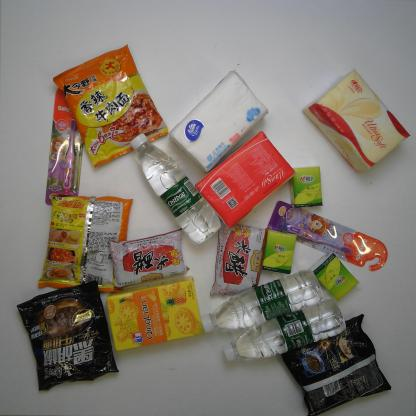Dessert: (106, 275, 206, 352)
Drink: (130, 133, 223, 245), (201, 269, 324, 333), (224, 303, 346, 364)
Instant Noodles: (52, 42, 172, 167), (17, 281, 121, 394), (280, 314, 390, 413), (38, 192, 131, 293)
Personal Hygiene: (266, 200, 388, 272), (45, 87, 89, 207)
Seasoner: (110, 227, 189, 287), (210, 223, 267, 295)
Tissue: (301, 69, 411, 170), (192, 130, 296, 229), (172, 69, 268, 173), (312, 251, 359, 300), (261, 228, 294, 275), (293, 168, 323, 208)
